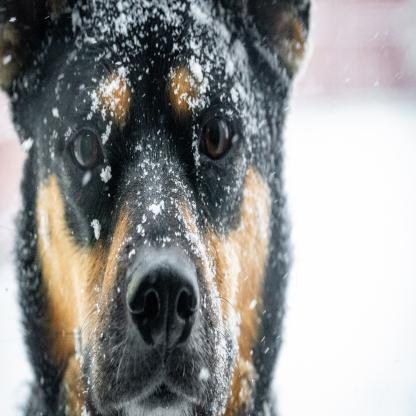dog: (0, 2, 311, 416)
